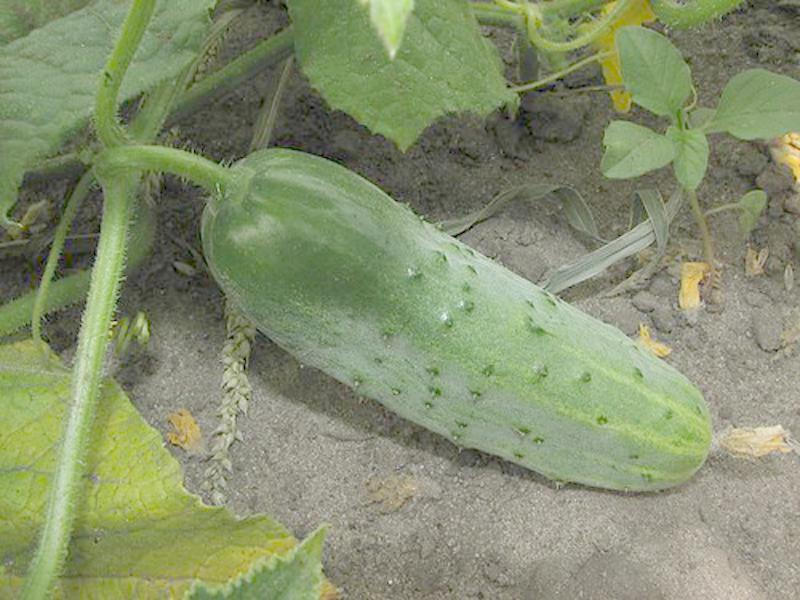Cucumber: (202, 149, 792, 494)
